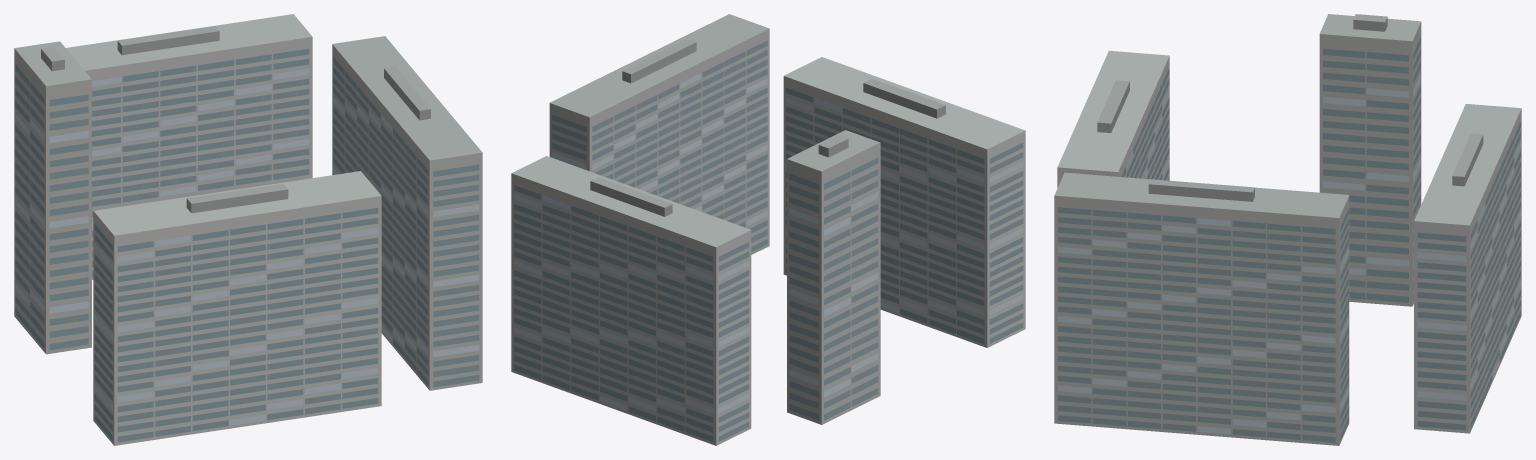
Rendered from apt-a15080002.glb.
The picture shows the model from 3 angles, left to right: view 1: azimuth 30°, elevation 25°; view 2: azimuth 150°, elevation 25°; view 3: azimuth 270°, elevation 25°; orthographic projection. The views are drawn at different scales.
Parts seen in each view (by area): view 1: apt-a15080002; view 2: apt-a15080002; view 3: apt-a15080002.
Part boxes in pixels (<box>): apt-a15080002: <box>14,14,482,445</box>; apt-a15080002: <box>511,14,1025,445</box>; apt-a15080002: <box>1054,14,1521,445</box>.
Bounding box in the file's own units: 101 × 69.5 × 107.
